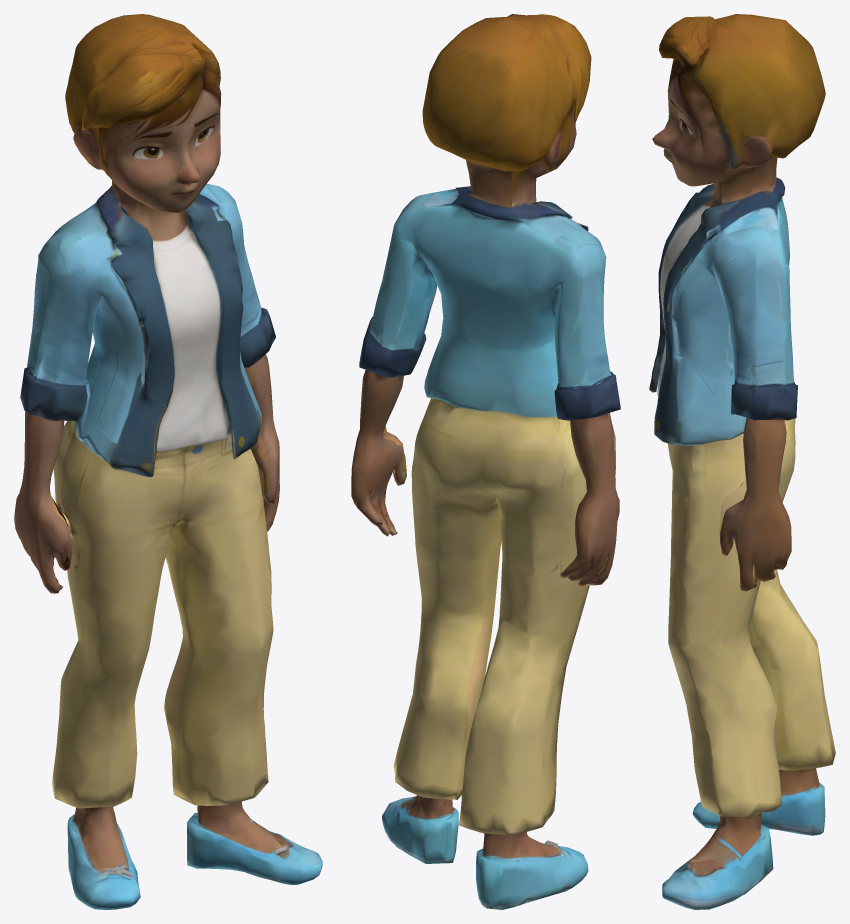
Rendered from generate_3d_model_for_0509084836_texture.glb.
The picture shows the model from 3 angles, left to right: view 1: azimuth 30°, elevation 25°; view 2: azimuth 150°, elevation 25°; view 3: azimuth 270°, elevation 25°; orthographic projection. The views are drawn at different scales.
Bounding box in the file's own units: 0.6479 × 2 × 0.4109.
Materials: 1 (1 with a texture image).
